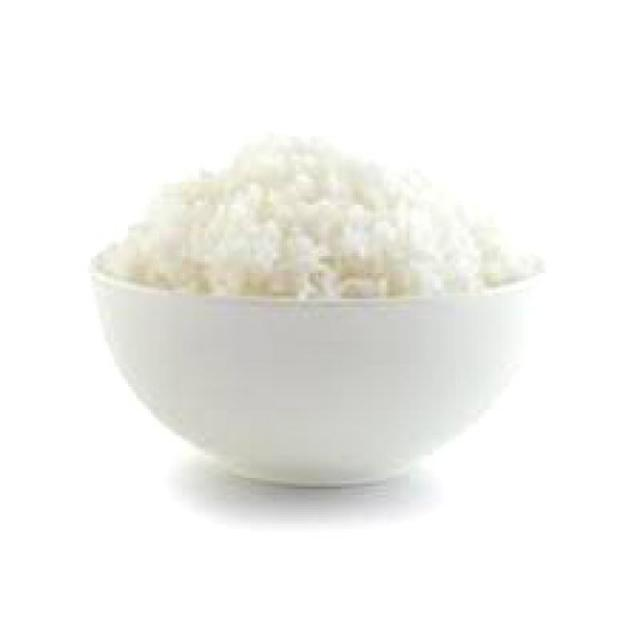rice: (106, 128, 530, 300)
